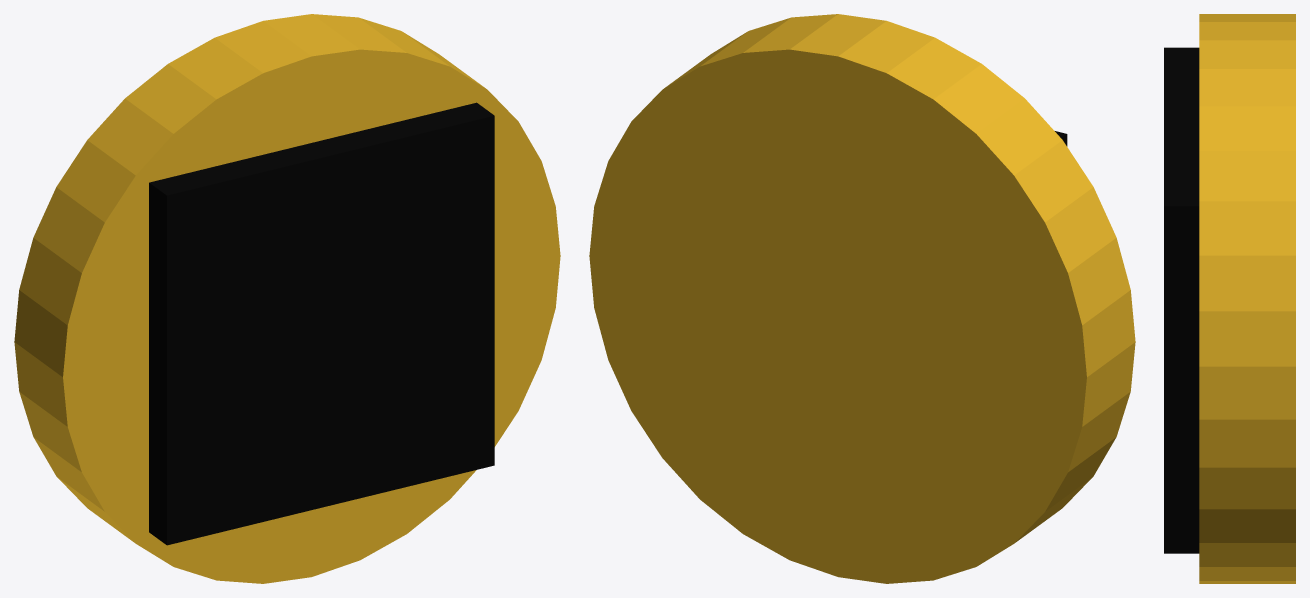
The model's file is timesupStop.fbx.
3 views of the same model, side by side, from view 1: azimuth 30°, elevation 25°; view 2: azimuth 150°, elevation 25°; view 3: azimuth 270°, elevation 25° (orthographic).
Parts seen in each view (by area): view 1: A.001; view 2: A.001; view 3: A.001.
Part boxes in pixels (<box>): A.001: <box>14,14,560,583</box>; A.001: <box>589,14,1135,583</box>; A.001: <box>1164,14,1295,583</box>.
Size of the model in its own units: 20 by 20 by 4.63.
